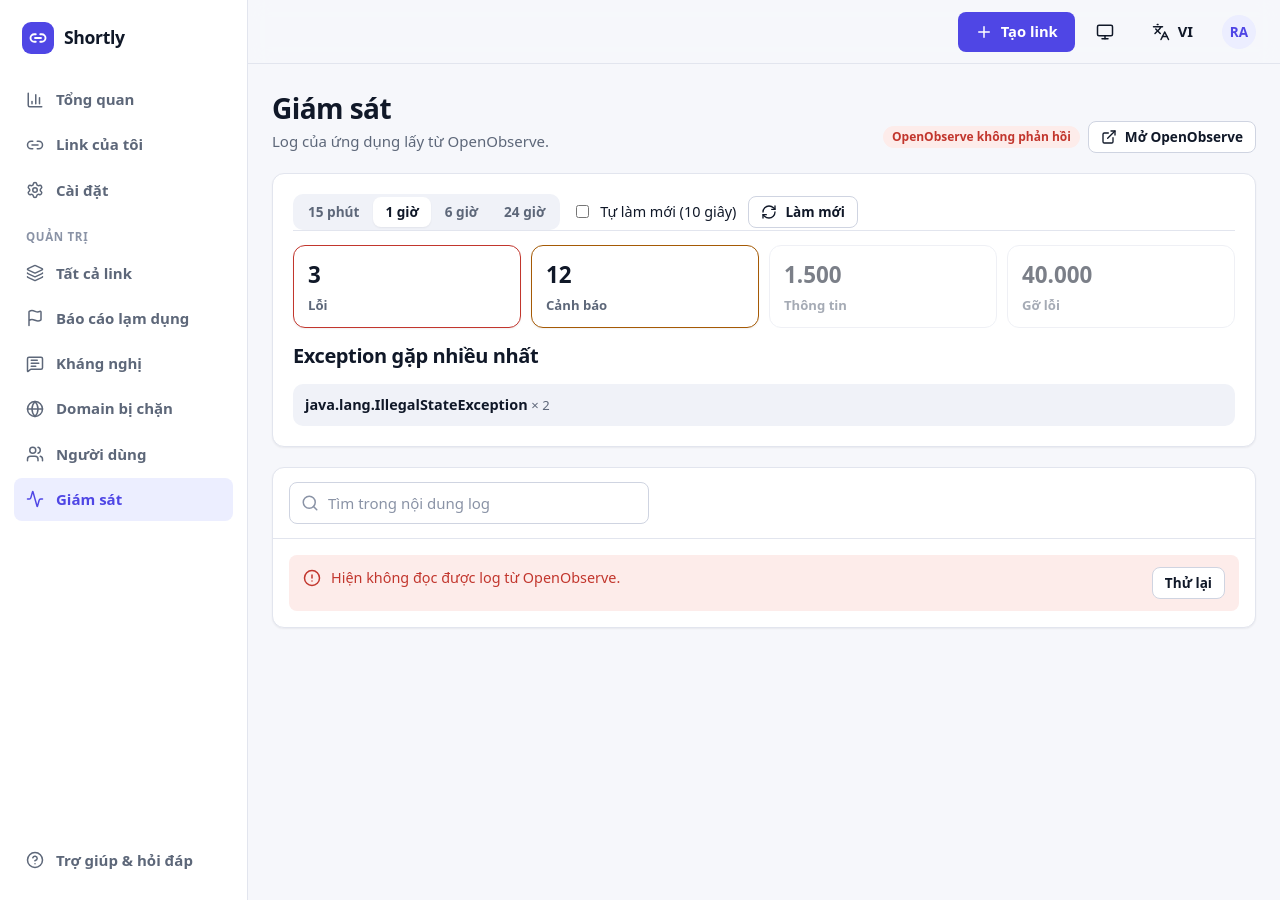
quản trị: giám sát (log từ OpenObserve) › OpenObserve không trả lời: báo trên huy hiệu; lỗi tải log hiện kèm nút thử lại
The width and height of the screenshot is (1280, 900).
Expected: the text "OpenObserve không phản hồi" is shown, [883, 126, 1080, 148]
Expected: the text "Hiện không đọc được log từ OpenObserve." is shown, [331, 567, 620, 590]
Click the button "Thử lại" at point(1188, 583), box [1152, 567, 1225, 599]
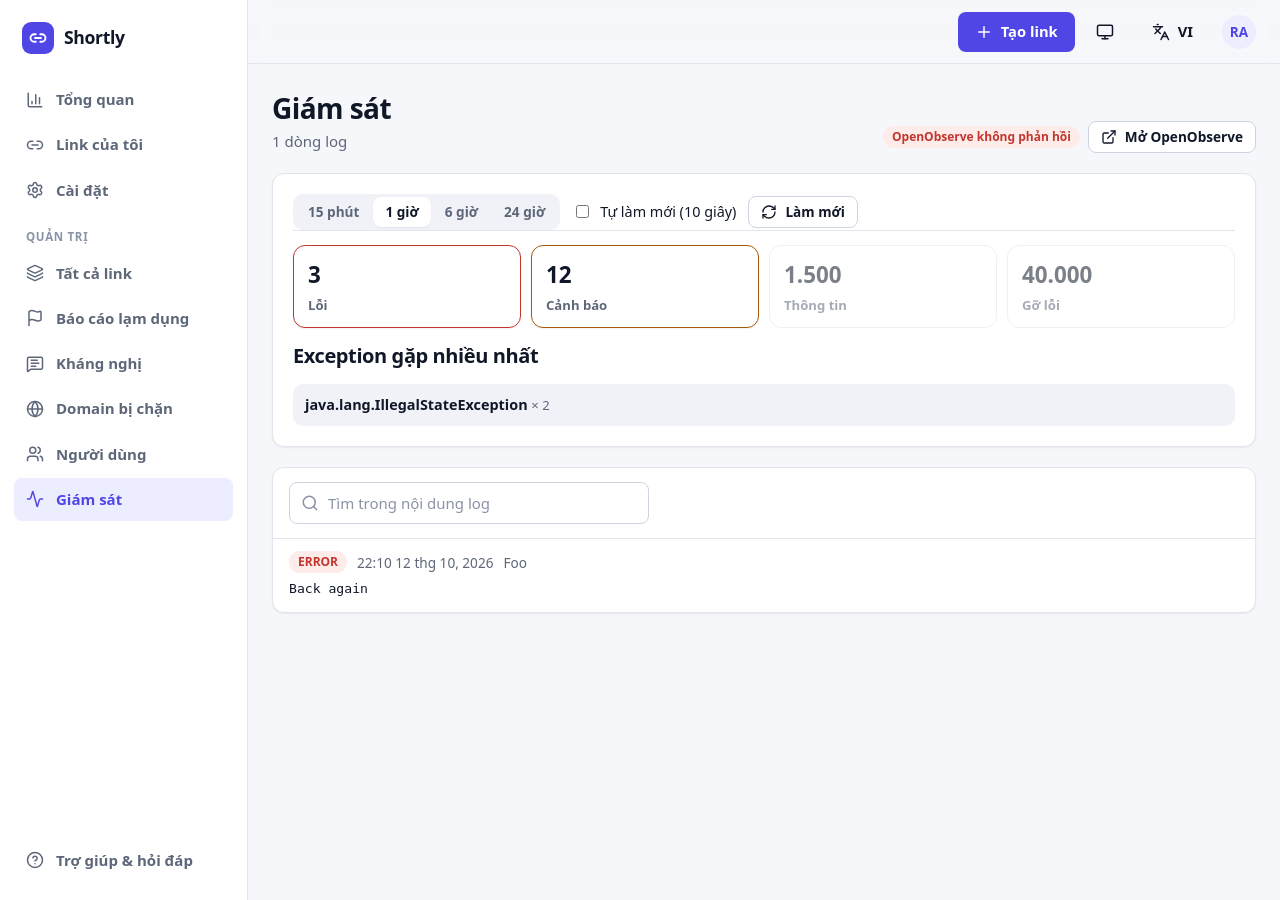
Expected: the text "Back again" is shown, [289, 581, 368, 596]
